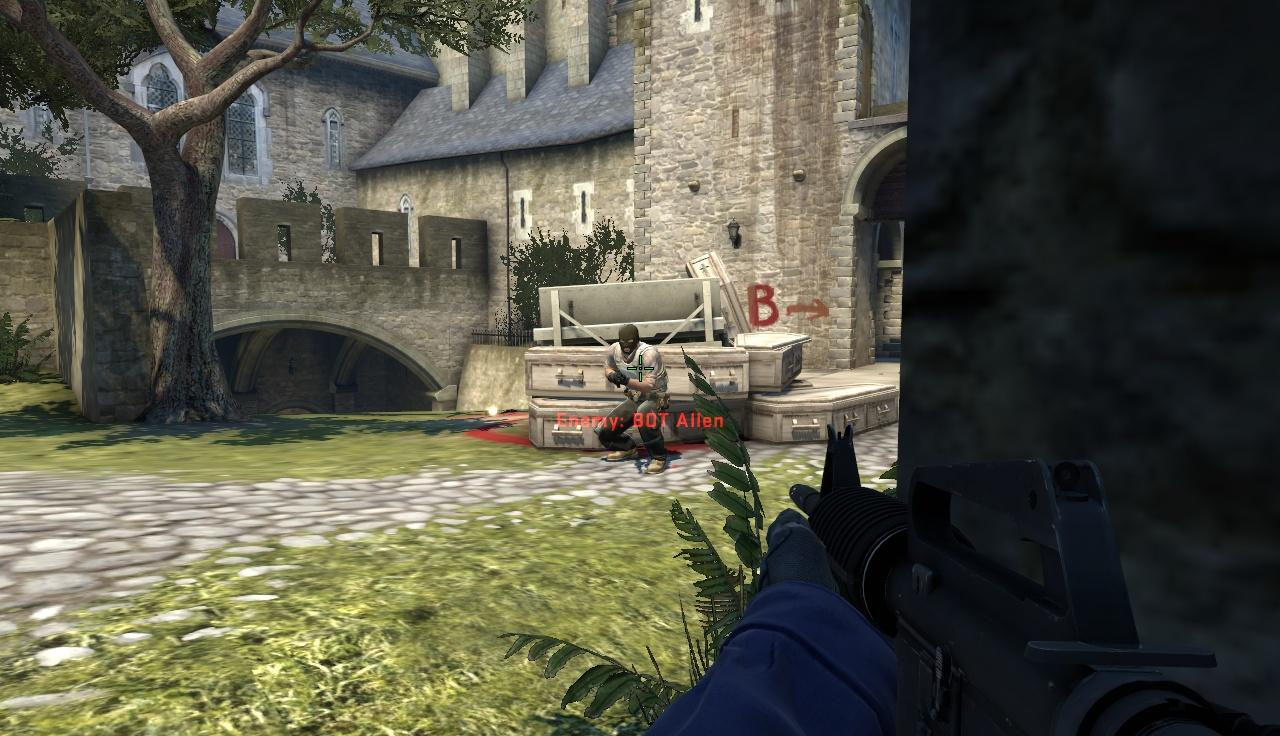rifle: (787, 422, 1280, 736)
tt: (604, 322, 665, 471)
tthead: (618, 323, 640, 356)
